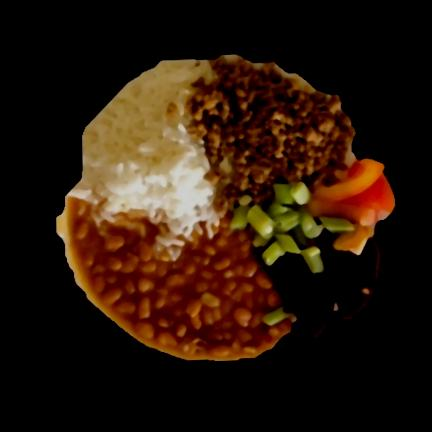beans: (59, 197, 287, 360)
beet: (252, 232, 380, 340)
green_beans: (227, 179, 354, 273)
meat: (194, 61, 355, 209)
rice: (79, 60, 215, 249)
tomato: (310, 160, 395, 253)
